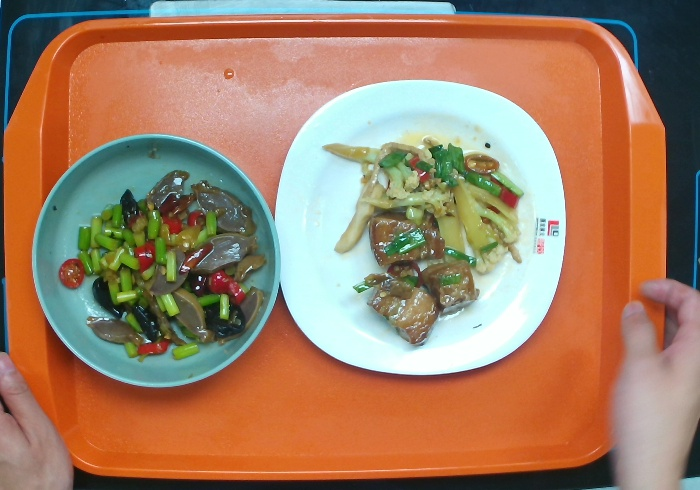ZNLD-Qing_Hua_Yuan_Wan: (29, 131, 282, 392)
ZNLD-Yuan_Jiao_Pan: (272, 77, 568, 375)
